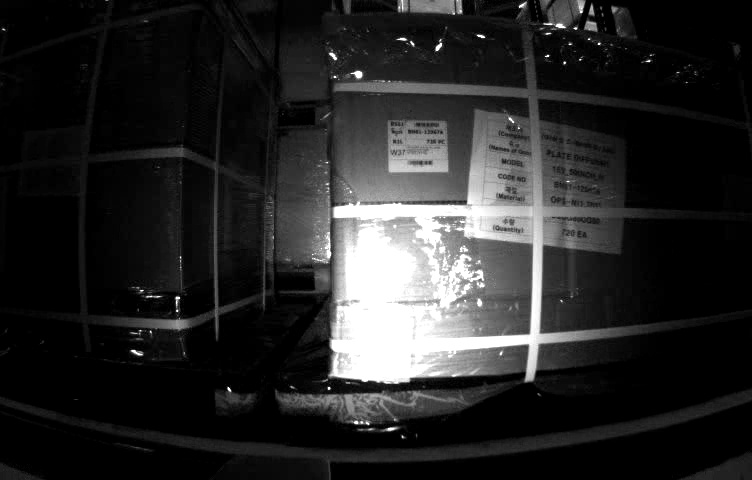True Barcode: (387, 120, 450, 172)
